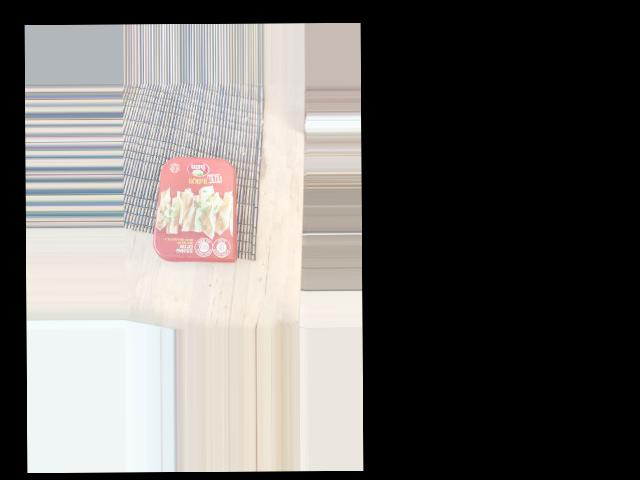cheese: (123, 120, 232, 220)
